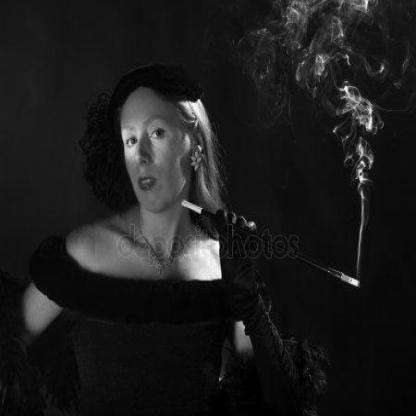smoke: (283, 0, 410, 139)
